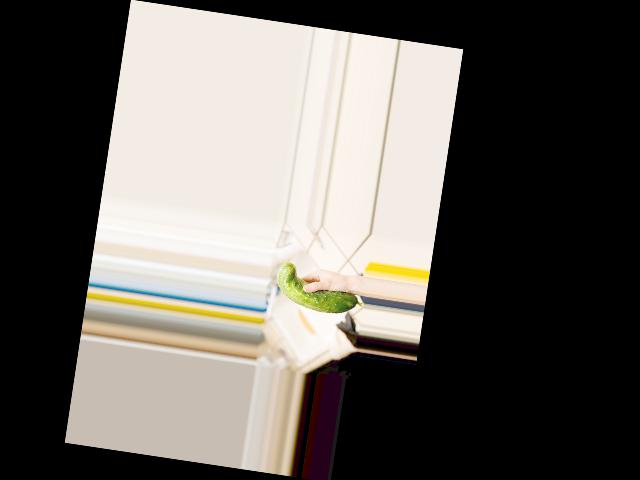cucumber: (272, 261, 367, 318)
